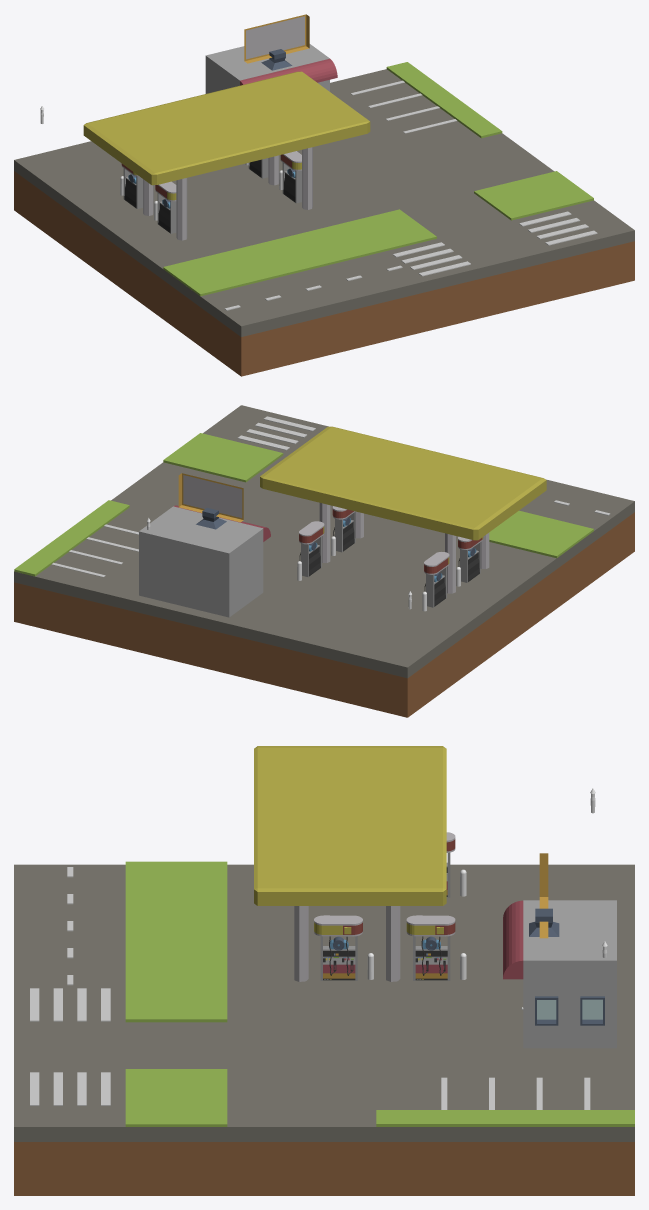
File: gas-station.glb
3 renders of one model, top to bottom at view 1: azimuth 30°, elevation 25°; view 2: azimuth 150°, elevation 25°; view 3: azimuth 270°, elevation 25°, orthographic. The views are drawn at different scales.
Visible parts, largest first — view 1: Cube_Cube.001, Cube.005_Cube.006, Cube.001_Cube.002, Cube.002_Cube.003, Cube.126_Cube.007, Cube.132_Cube.136, Cube.127_Cube.128, Cube.003_Cube.004, Cube.004_Cube.005, Cylinder.065_Cylinder.018, Cylinder, Cube.133_Cube.137 (+1 smaller); view 2: Cube_Cube.001, Cube.005_Cube.006, Cube.126_Cube.007, Cube.002_Cube.003, Cube.001_Cube.002, Cube.132_Cube.136, Cube.127_Cube.128, Cube.004_Cube.005, Cube.133_Cube.137, Cylinder.002, Cylinder.003, Cylinder.035_Cylinder.038 (+1 smaller); view 3: Cube_Cube.001, Cube.005_Cube.006, Cube.001_Cube.002, Cube.126_Cube.007, Cube.002_Cube.003, Cube.132_Cube.136, Cylinder.065_Cylinder.018, Cube.003_Cube.004, Cube.004_Cube.005, Cylinder.001, Cylinder.002, Cylinder.035_Cylinder.038 (+5 smaller).
Part boxes in pixels (<box>): Cube_Cube.001: <box>14,69,634,376</box>; Cube.005_Cube.006: <box>83,71,370,185</box>; Cube.001_Cube.002: <box>163,209,436,296</box>; Cube.002_Cube.003: <box>474,171,593,220</box>; Cube.126_Cube.007: <box>205,44,329,93</box>; Cube.132_Cube.136: <box>386,62,502,138</box>; Cube.127_Cube.128: <box>244,14,309,63</box>; Cube.003_Cube.004: <box>392,242,470,276</box>; Cube.004_Cube.005: <box>519,211,597,245</box>; Cylinder.065_Cylinder.018: <box>240,58,337,85</box>; Cylinder: <box>176,178,187,240</box>; Cube.133_Cube.137: <box>351,80,457,133</box>; Cube_Cube.001: <box>14,405,634,717</box>; Cube.005_Cube.006: <box>260,426,546,540</box>; Cube.126_Cube.007: <box>139,506,263,617</box>; Cube.002_Cube.003: <box>163,433,283,482</box>; Cube.001_Cube.002: <box>489,510,593,558</box>; Cube.132_Cube.136: <box>14,500,129,576</box>; Cube.127_Cube.128: <box>178,473,243,522</box>; Cube.004_Cube.005: <box>237,416,315,450</box>; Cube.133_Cube.137: <box>51,524,138,577</box>; Cylinder.002: <box>319,503,330,562</box>; Cylinder.003: <box>445,533,455,593</box>; Cylinder.035_Cylinder.038: <box>299,521,324,544</box>; Cube_Cube.001: <box>14,864,634,1195</box>; Cube.005_Cube.006: <box>254,746,446,905</box>; Cube.001_Cube.002: <box>125,861,227,1022</box>; Cube.126_Cube.007: <box>523,900,616,1048</box>; Cube.002_Cube.003: <box>125,1069,227,1126</box>; Cube.132_Cube.136: <box>376,1110,634,1126</box>; Cylinder.065_Cylinder.018: <box>503,900,523,979</box>; Cube.003_Cube.004: <box>30,988,110,1021</box>; Cube.004_Cube.005: <box>30,1072,110,1105</box>; Cylinder.001: <box>294,906,308,981</box>; Cylinder.002: <box>386,906,400,981</box>; Cylinder.035_Cylinder.038: <box>406,915,455,936</box>.
Size of the model in its own units: 8.33 by 3.14 by 8.31.
